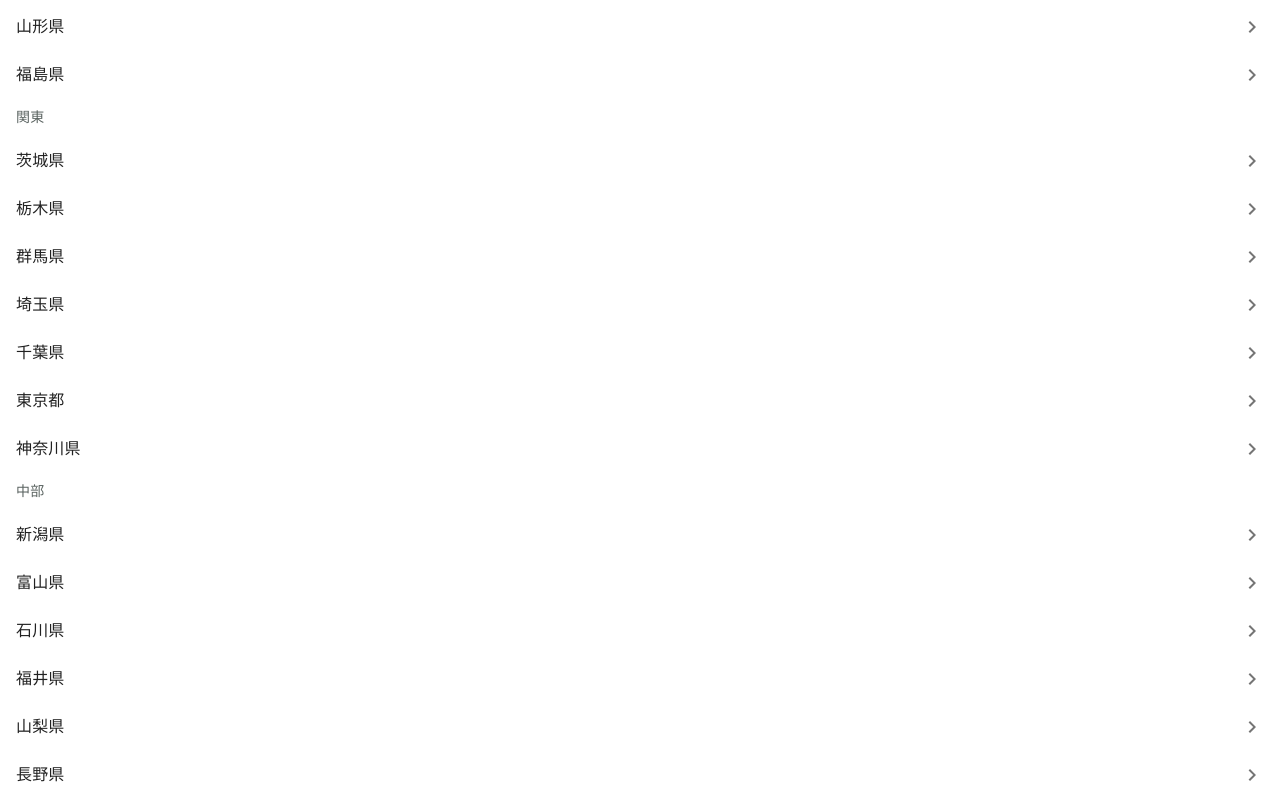
CitySelectionPage › 戻るボタンで都道府県選択画面へ戻る
(page scrolled)
Click the link "東京都".
click(40, 400)  # box 16,389 -> 1264,413
(page scrolled)
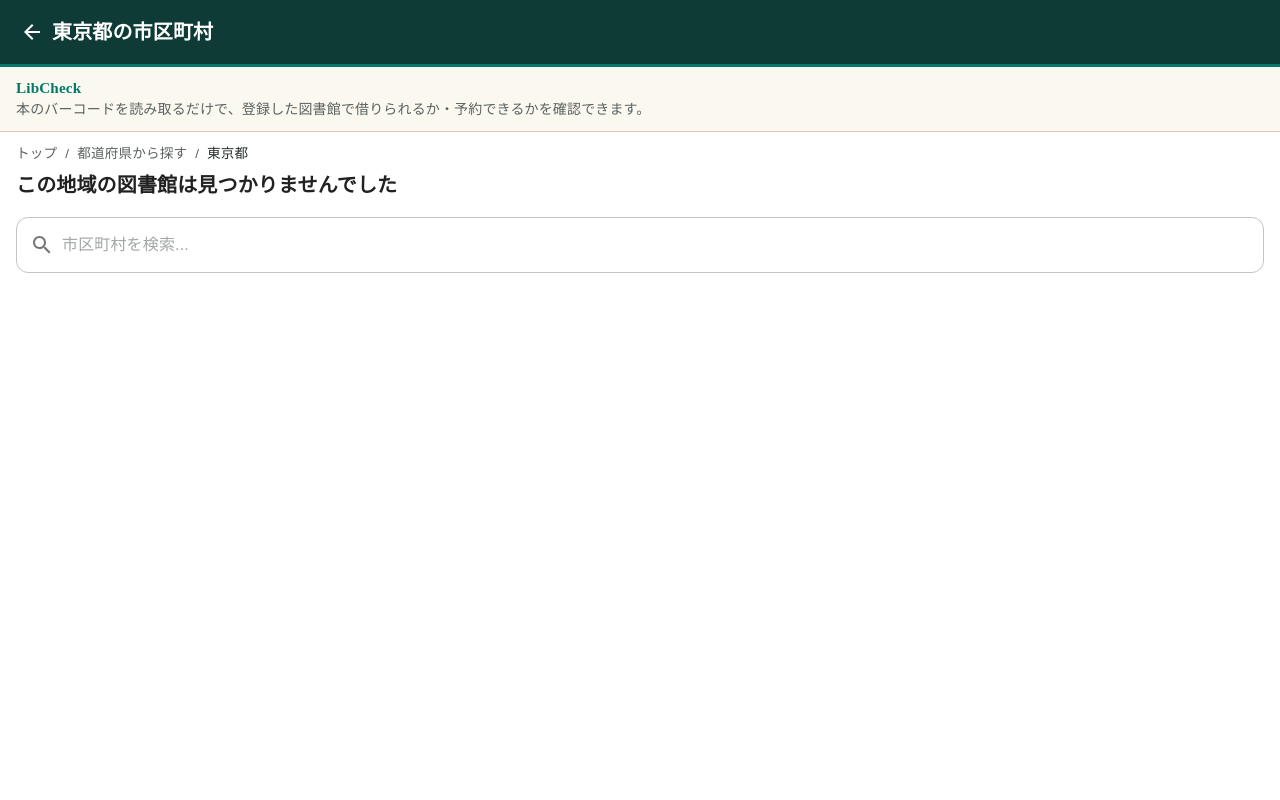
expect the text "東京都の市区町村" is shown: met, box 52,21 -> 213,43
Click the button named "戻る".
click(32, 32)  # box 12,12 -> 52,52
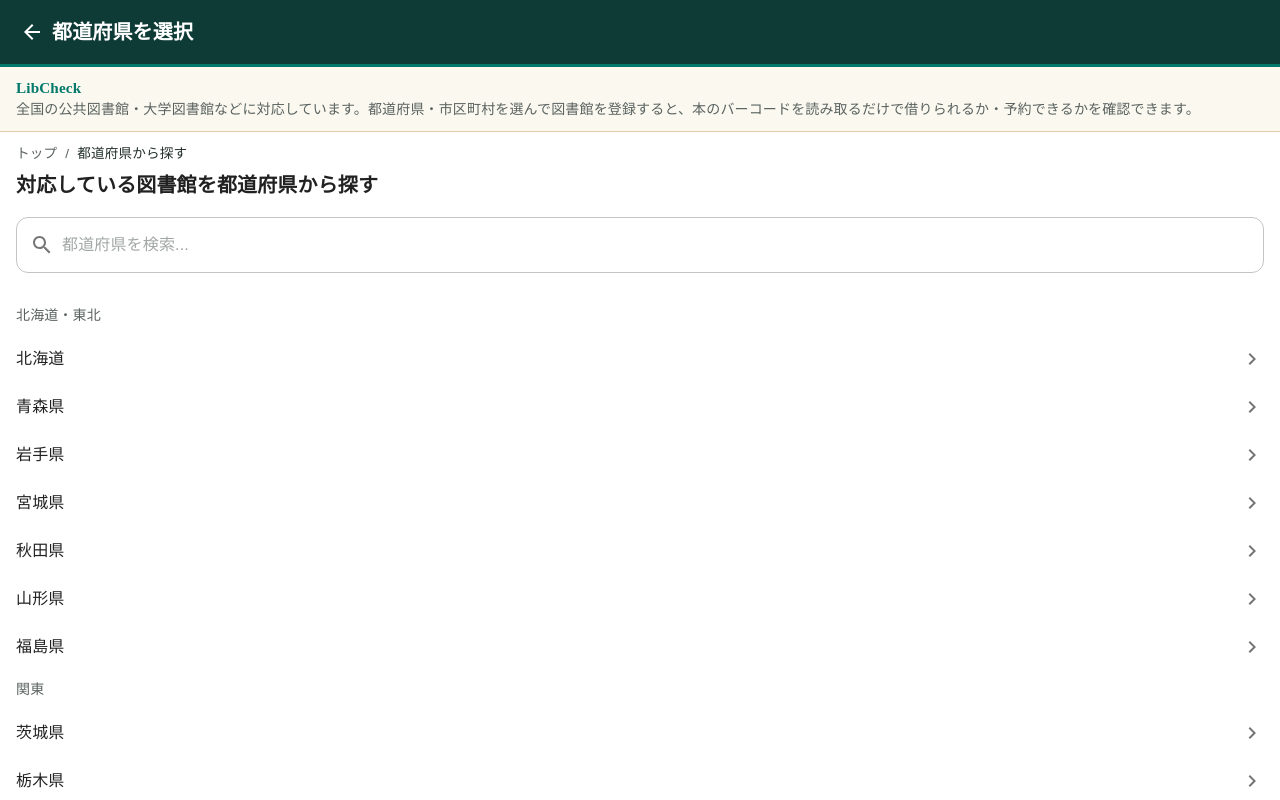
expect the text "都道府県を選択" is shown: met, box 52,21 -> 193,43
